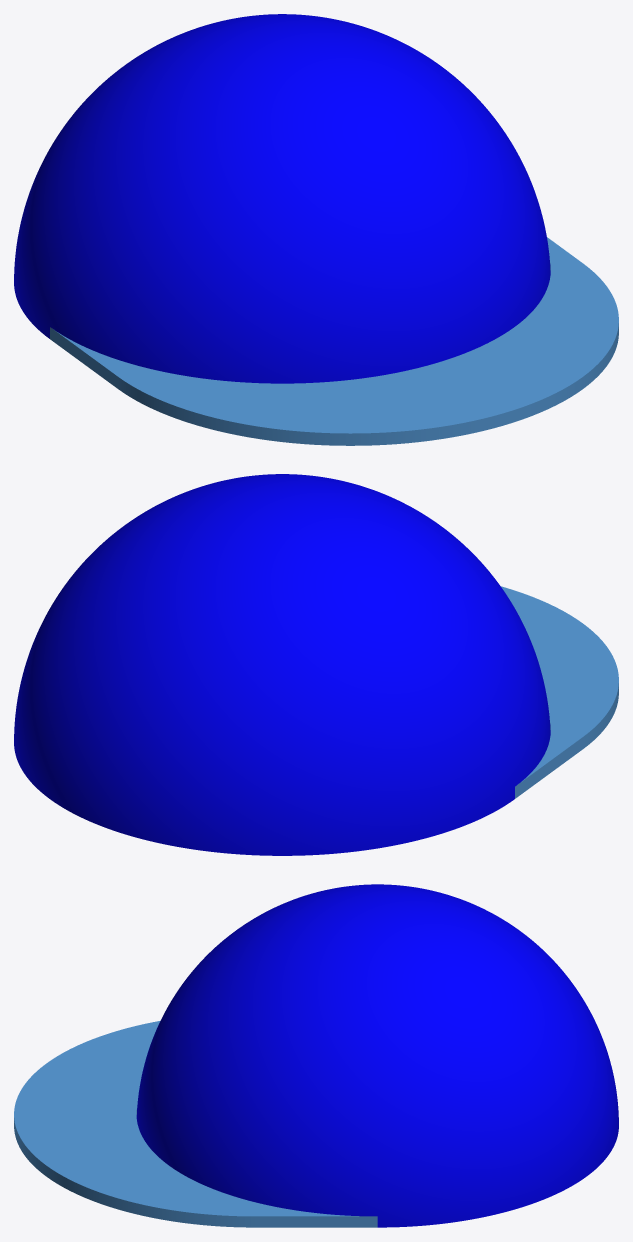
File: Blue Cap.gltf
The picture shows the model from 3 angles, top to bottom: view 1: azimuth 30°, elevation 25°; view 2: azimuth 150°, elevation 25°; view 3: azimuth 270°, elevation 25°; orthographic projection. The views are drawn at different scales.
Visible parts, largest first — view 1: Body, Bill; view 2: Body, Bill; view 3: Body, Bill.
Part boxes in pixels (left/top/right/bottom): Body: left=14, top=14, right=550, bottom=383; Bill: left=50, top=237, right=618, bottom=445; Body: left=14, top=474, right=550, bottom=855; Bill: left=501, top=586, right=618, bottom=798; Body: left=136, top=884, right=618, bottom=1227; Bill: left=14, top=1021, right=377, bottom=1227.
Bounding box in the file's own units: 1 × 0.5 × 1.25.
